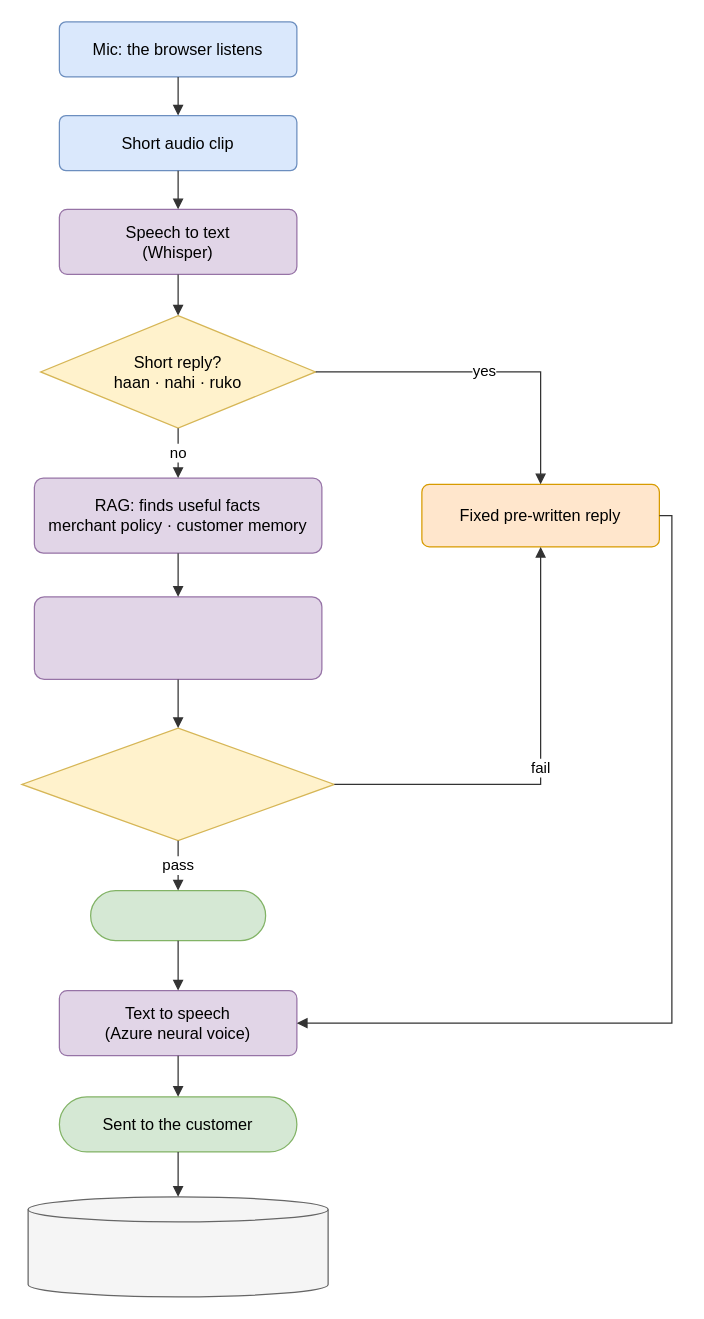
This 704x1319 diagram has some shape labels left out. Each missing label, with the centre of its shape:
Draft checker numbers · wording · language: the point at 177,784
LLM (Groq) conversation + retrieved facts → draft reply: the point at 177,637
Reply: the point at 177,915
Voice turns every line saved; call summarised into the customer's memory: the point at 177,1246
